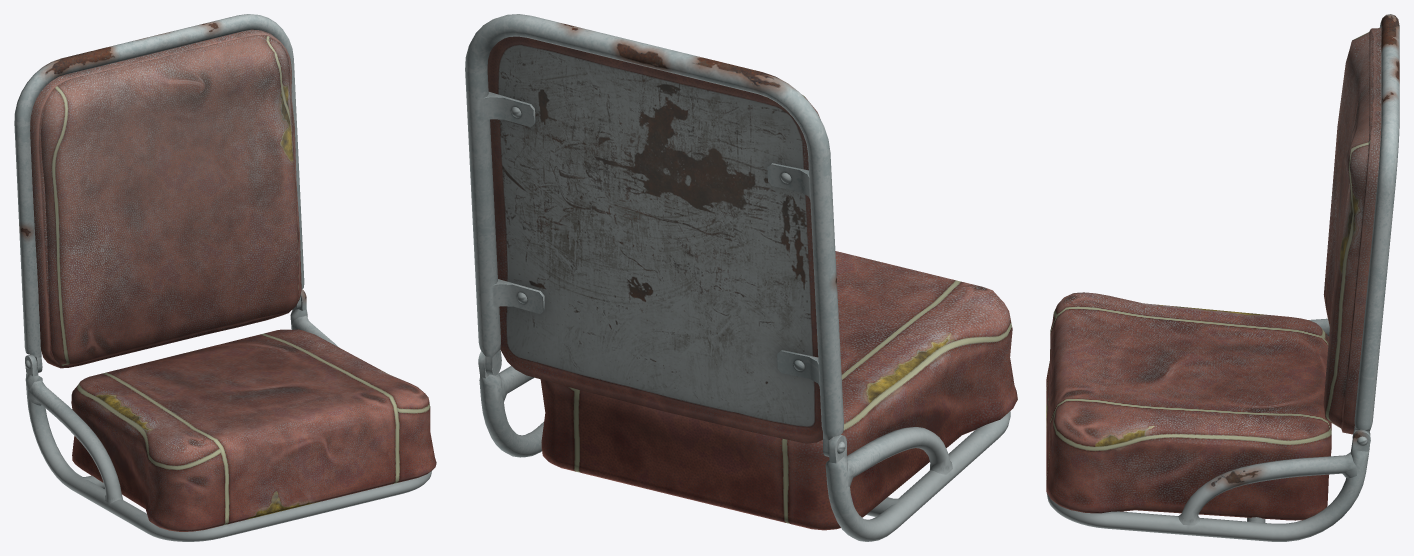
The model's file is CarSeat2.glb.
3 views of the same model, side by side, from view 1: azimuth 30°, elevation 25°; view 2: azimuth 150°, elevation 25°; view 3: azimuth 270°, elevation 25° (orthographic). The views are drawn at different scales.
Parts seen in each view (by area): view 1: Seat_003_low_Paz_672M_lowpoly_0, Seat_000_low, Seat_001_low_Paz_672M_lowpoly_0, Seat_002_low_Paz_672M_lowpoly_0; view 2: Seat_003_low_Paz_672M_lowpoly_0, Seat_000_low, Seat_002_low_Paz_672M_lowpoly_0, Seat_001_low_Paz_672M_lowpoly_0; view 3: Seat_000_low, Seat_003_low_Paz_672M_lowpoly_0, Seat_001_low_Paz_672M_lowpoly_0, Seat_002_low_Paz_672M_lowpoly_0.
Part boxes in pixels (x1,y1,x2,y2): Seat_003_low_Paz_672M_lowpoly_0: (30,29,301,368); Seat_000_low: (71,329,436,531); Seat_001_low_Paz_672M_lowpoly_0: (25,289,431,541); Seat_002_low_Paz_672M_lowpoly_0: (14,14,304,372); Seat_003_low_Paz_672M_lowpoly_0: (487,36,822,443); Seat_000_low: (540,251,1017,530); Seat_002_low_Paz_672M_lowpoly_0: (465,14,843,456); Seat_001_low_Paz_672M_lowpoly_0: (478,351,1010,541); Seat_000_low: (1046,292,1331,520); Seat_003_low_Paz_672M_lowpoly_0: (1323,28,1381,434); Seat_001_low_Paz_672M_lowpoly_0: (1046,318,1370,541); Seat_002_low_Paz_672M_lowpoly_0: (1352,14,1399,437).
Size of the model in its own units: 0.5206 by 0.6763 by 0.5332.
Materials: 1 (1 with a texture image).
